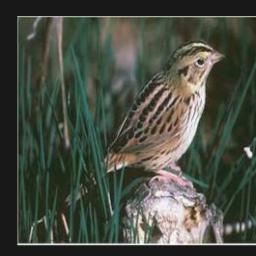Sparrow: (42, 38, 226, 218)
